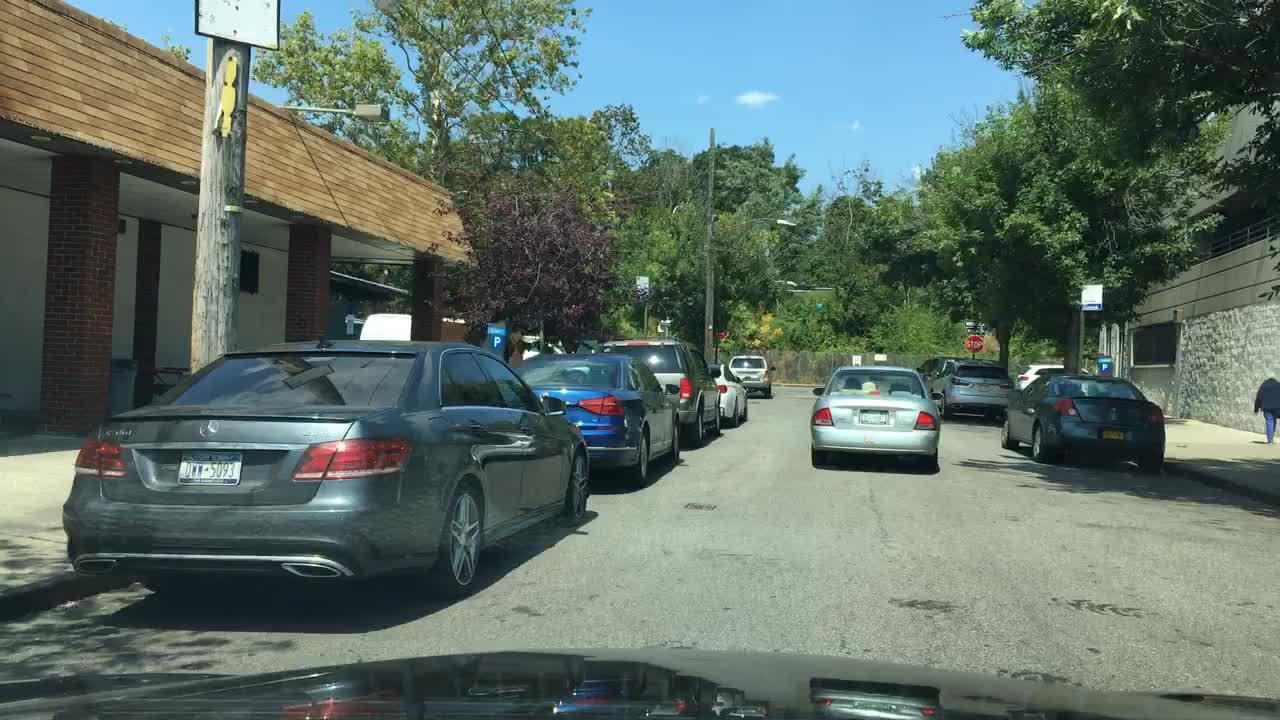Mercedes: (193, 416, 224, 442)
